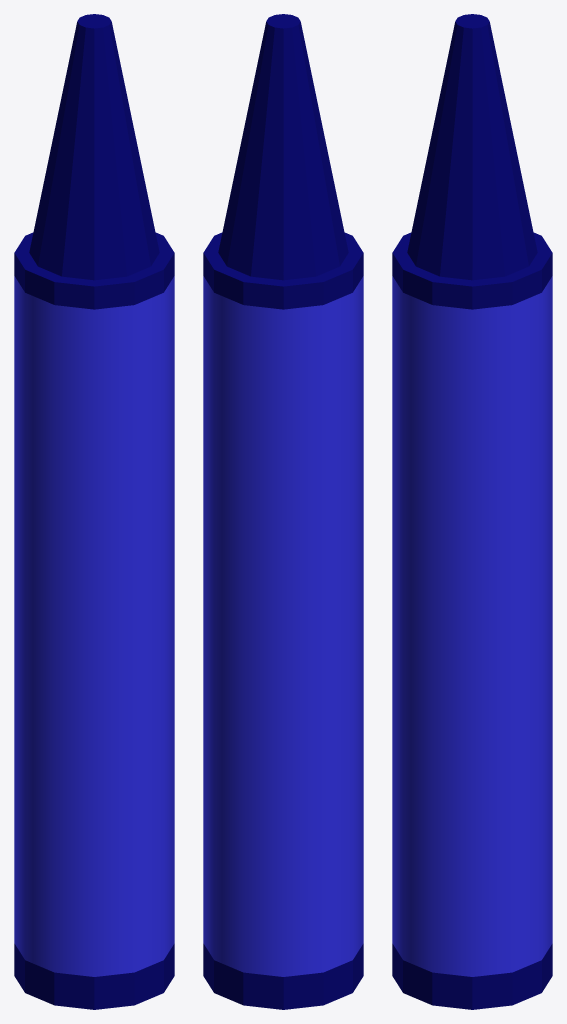
File: SM_CrayonTower.fbx
The picture shows the model from 3 angles, left to right: view 1: azimuth 30°, elevation 25°; view 2: azimuth 150°, elevation 25°; view 3: azimuth 270°, elevation 25°; orthographic projection.
Parts seen in each view (by area): view 1: CrayonTower; view 2: CrayonTower; view 3: CrayonTower.
Part boxes in pixels (bbox=[...]): CrayonTower: bbox=[14, 14, 174, 1009]; CrayonTower: bbox=[203, 14, 363, 1009]; CrayonTower: bbox=[392, 14, 552, 1009].
Bounding box in the file's own units: 49.06 × 323 × 49.06.
